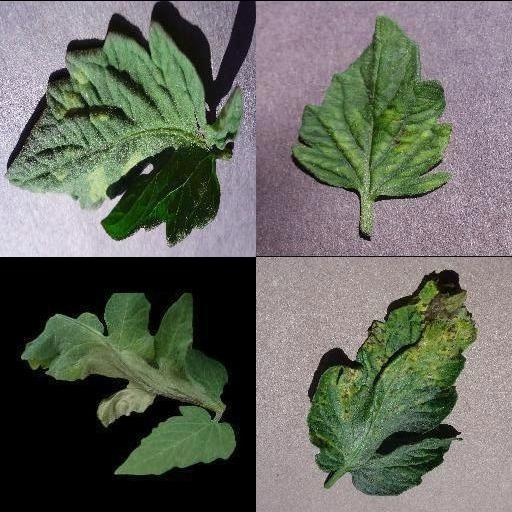Healthy: (113, 404, 235, 477)
Late Blight: (20, 292, 224, 426)
Leaf Mold: (3, 19, 245, 247)
Mosaic Virus: (290, 12, 454, 198)
Septoria: (308, 279, 477, 497)
